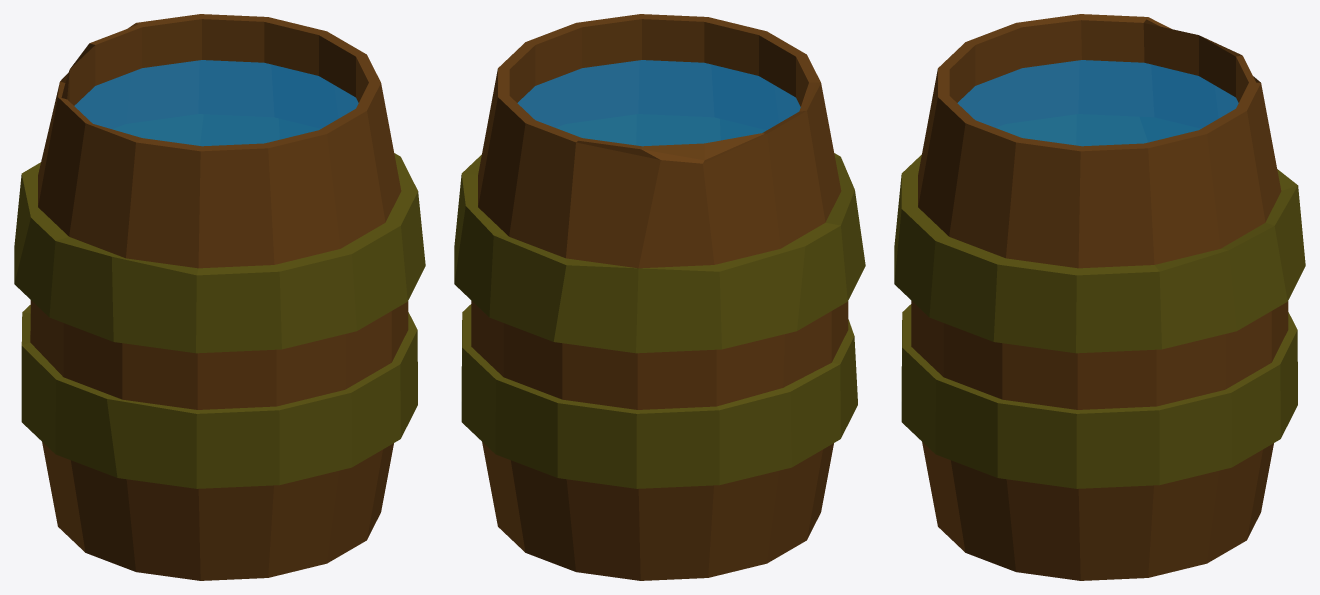
Rendered from barrel.gltf.
3 views of the same model, side by side, from view 1: azimuth 30°, elevation 25°; view 2: azimuth 150°, elevation 25°; view 3: azimuth 270°, elevation 25° (orthographic).
Parts seen in each view (by area): view 1: Cylinder; view 2: Cylinder; view 3: Cylinder.
Boxes of the visible parts, x1,y1,x2,y2 form: Cylinder: (14,14,425,580); Cylinder: (454,14,865,580); Cylinder: (894,14,1305,580).
Bounding box in the file's own units: 3.09 × 3.54 × 3.07.
